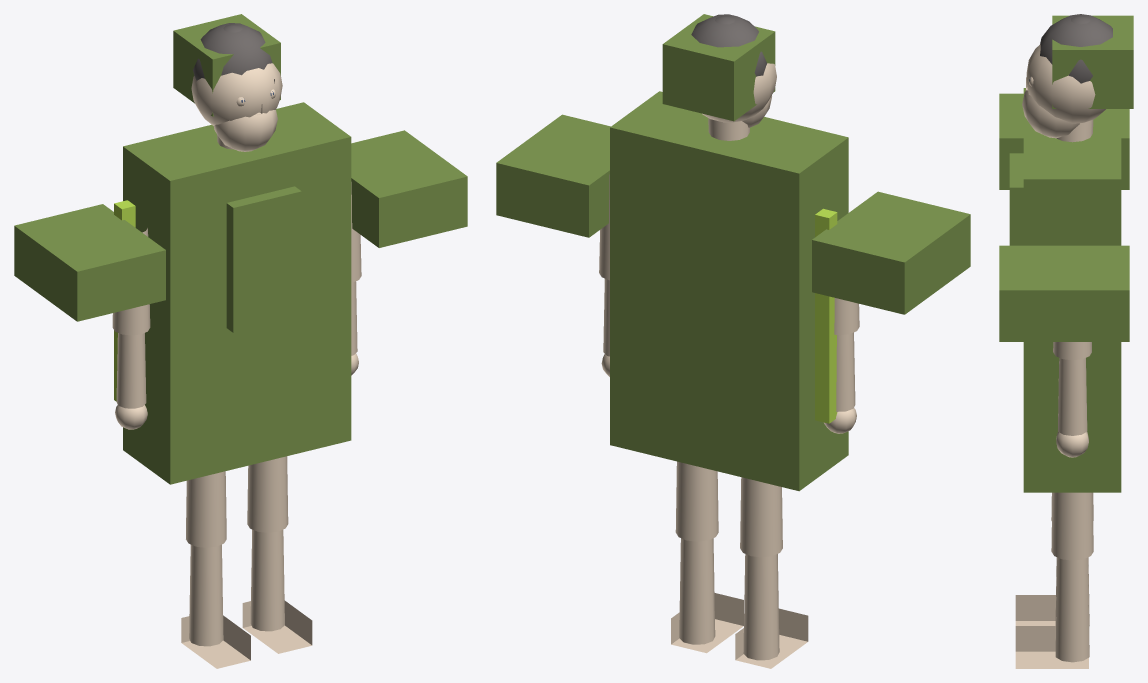
The model's file is body.glb.
3 views of the same model, side by side, from view 1: azimuth 30°, elevation 25°; view 2: azimuth 150°, elevation 25°; view 3: azimuth 270°, elevation 25° (orthographic). The views are drawn at different scales.
Visible parts, largest first — view 1: Cloth, Skin, Hair, Metal; view 2: Cloth, Skin, Metal, Hair; view 3: Cloth, Skin, Hair.
Part boxes in pixels (x1,y1,x2,y2): Cloth: [14, 14, 467, 484]; Skin: [112, 63, 361, 668]; Hair: [193, 23, 274, 83]; Metal: [114, 200, 135, 401]; Cloth: [496, 14, 970, 491]; Skin: [599, 63, 859, 668]; Metal: [815, 208, 837, 423]; Hair: [691, 14, 766, 76]; Cloth: [999, 15, 1133, 492]; Skin: [1015, 44, 1105, 668]; Hair: [1040, 14, 1112, 83].
Size of the model in its own units: 1.14 by 1.7 by 0.33.
